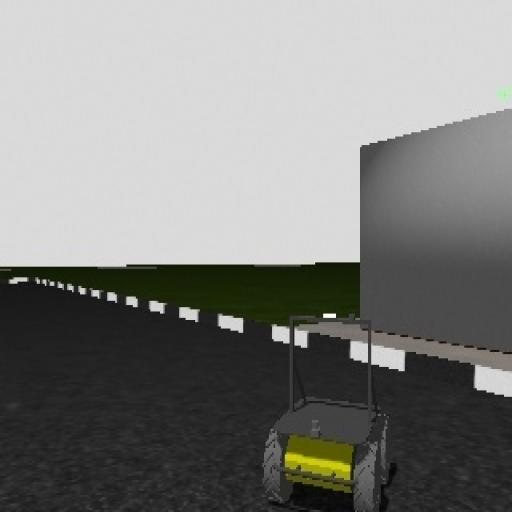huskya200: (248, 294, 395, 512)
